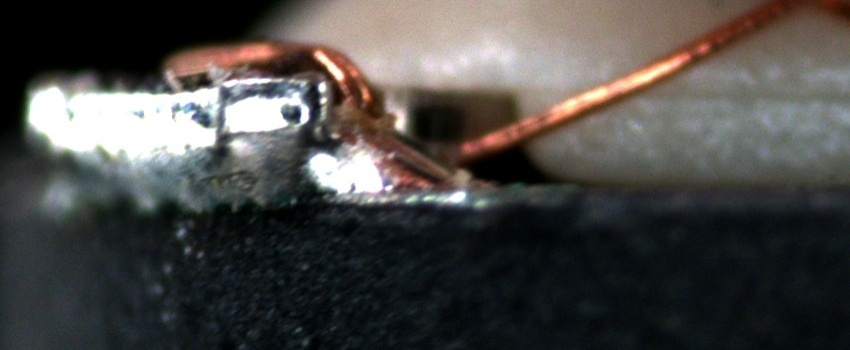DL: (532, 62, 850, 117)
TE: (155, 31, 388, 131)
